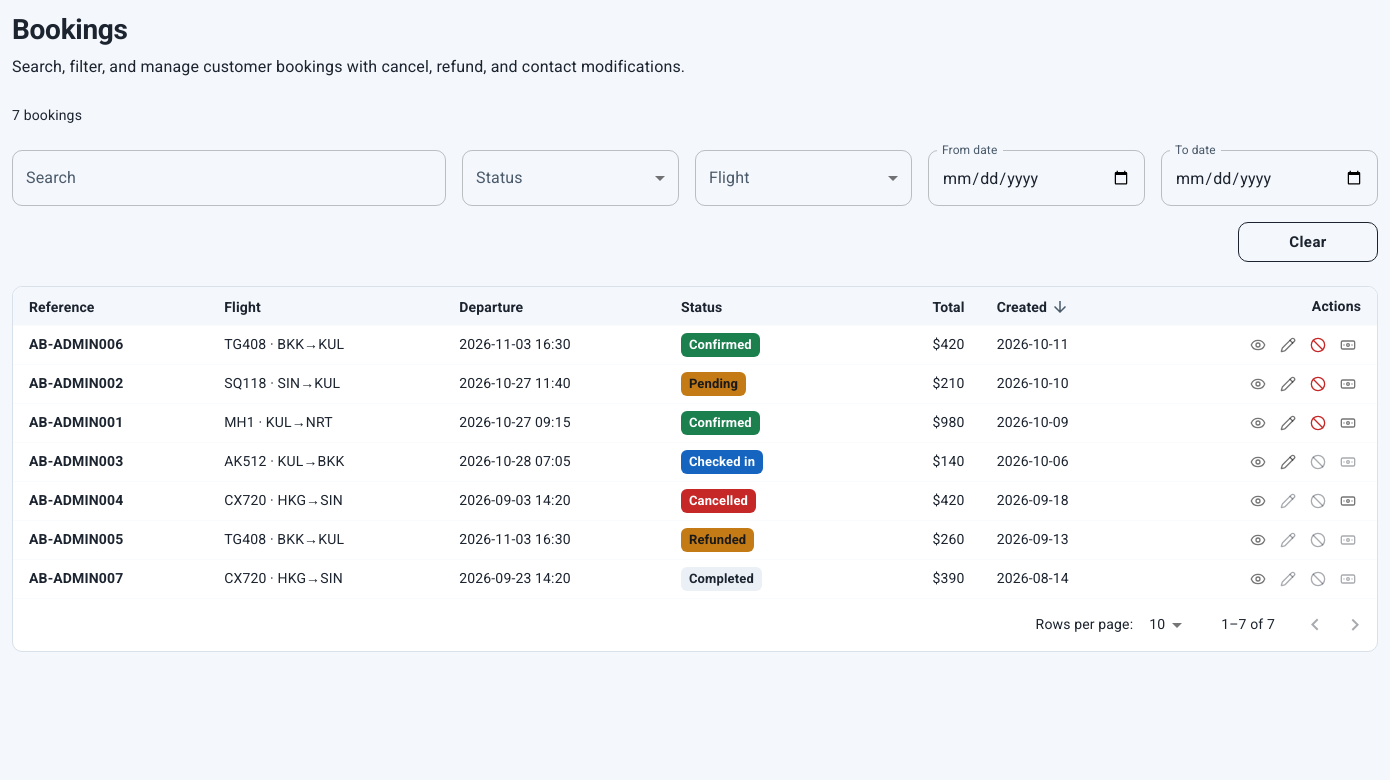
Test: AdminBookingsPage › filters by status and flight
The image size is (1390, 780).
Expected: the text "AB-ADMIN001" is shown, [29,414,123,430]
What coordinates should you click on to do the following:
click the 1st dropdown named "Status"
I would click on:
 (570, 178)
Its box is [462,150,679,206].
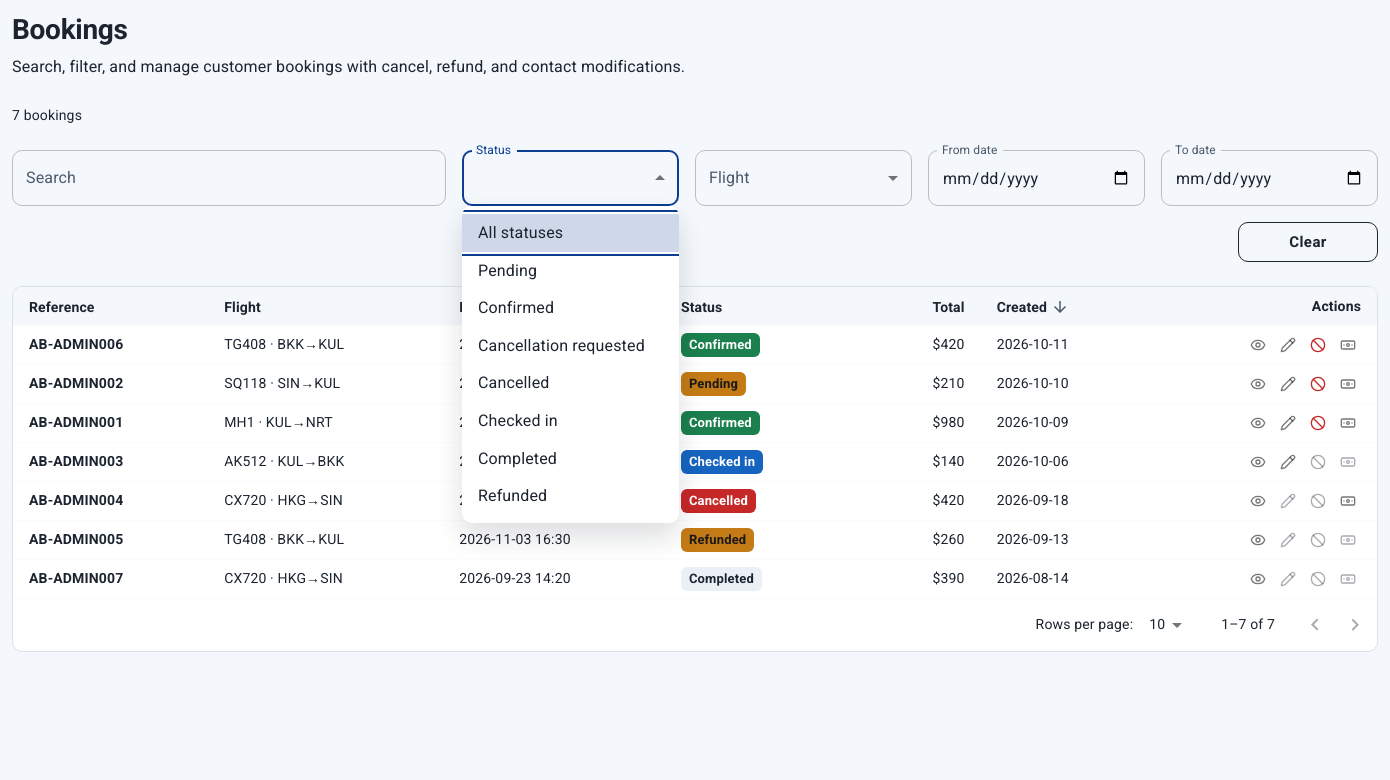
What coordinates should you click on to do the following:
click the option "Pending"
I would click on:
 (508, 270)
Its box is [478,261,537,280].
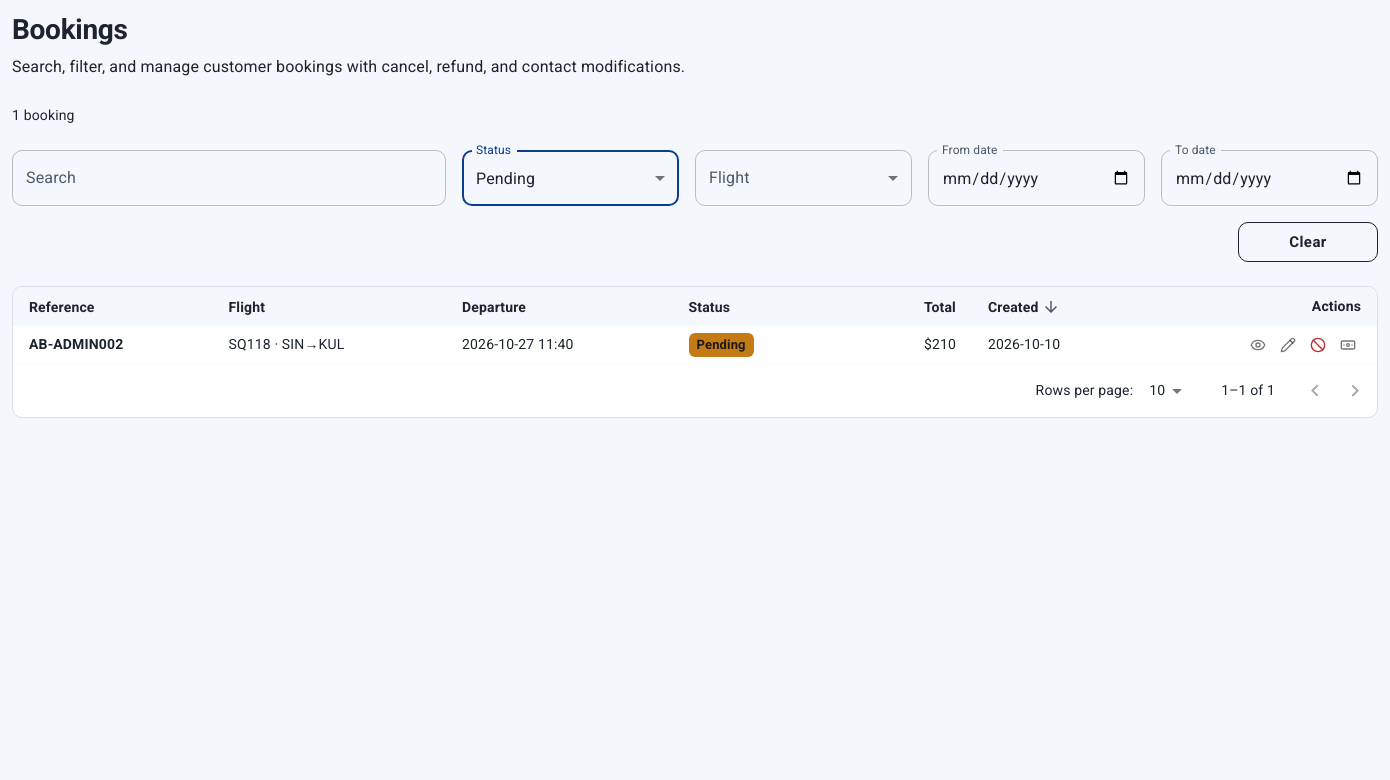
Expected: the text "AB-ADMIN002" is shown, [29,336,123,352]
Expected: the list is gone
Expected: the text "AB-ADMIN001" is gone
What coordinates should you click on to do the following:
click the button "Clear"
I would click on:
 (1308, 242)
Its box is [1238,222,1378,262].
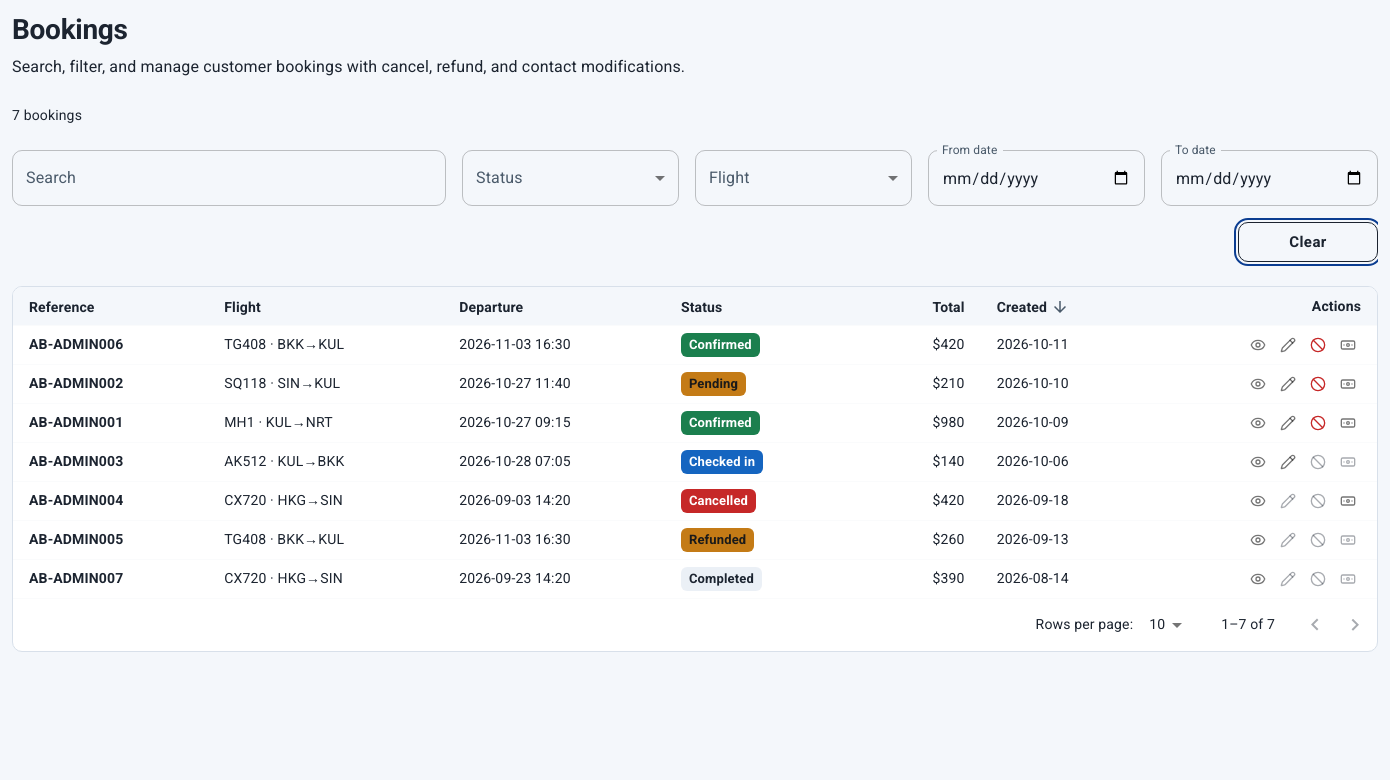
Expected: the text "AB-ADMIN001" is shown, [29,414,123,430]
What coordinates should you click on to do the following:
click the 2nd dropdown named "Flight"
I would click on:
 (804, 178)
Its box is [695,150,912,206].
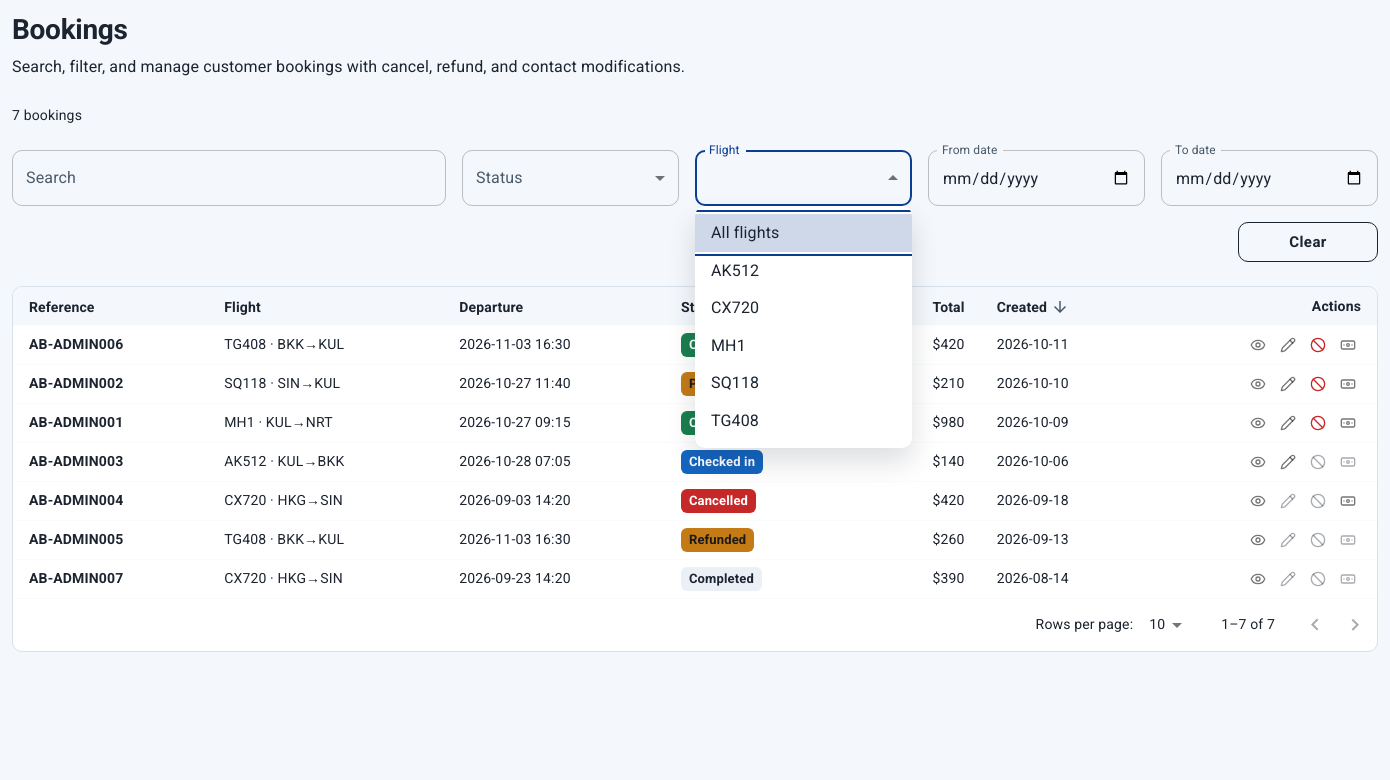
What coordinates should you click on to do the following:
click the option "MH1"
I would click on:
 (728, 345)
Its box is [711,336,746,355].
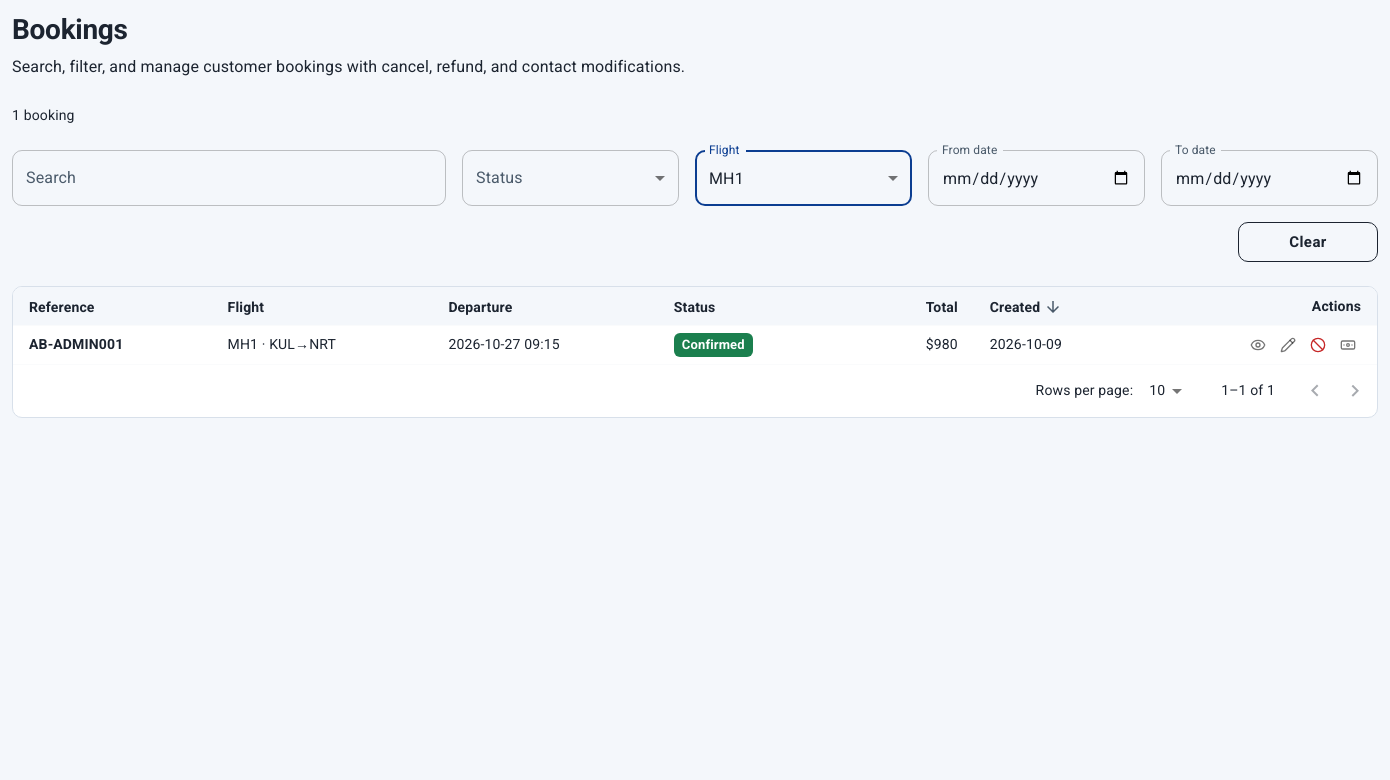
Expected: the text "AB-ADMIN001" is shown, [29,336,123,352]
Expected: the list is gone
Expected: the text "AB-ADMIN002" is gone
